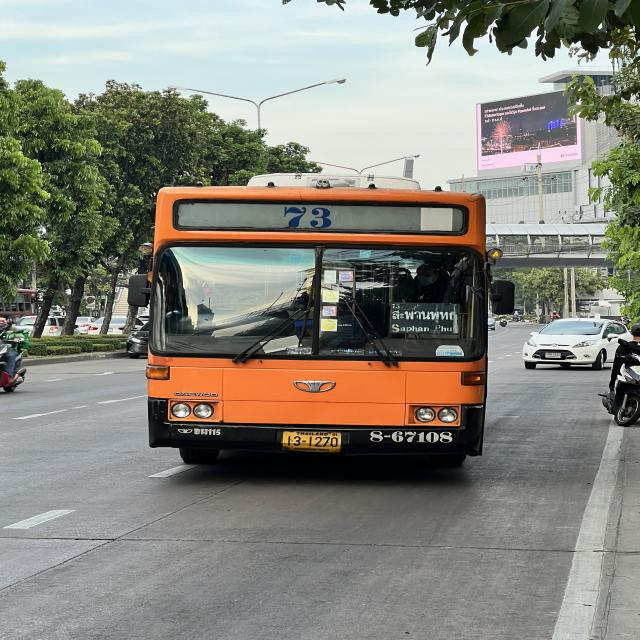BMTA-bus: (128, 178, 490, 470)
Bus Line Number: (279, 202, 341, 231)
Bus Side Number: (360, 426, 456, 445)
Destination Sign: (387, 303, 458, 334)
